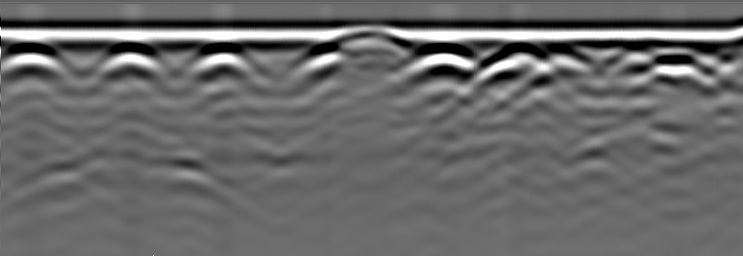pipe: (328, 27, 417, 56)
steel: (407, 48, 476, 81), (645, 45, 708, 78), (95, 46, 165, 75), (189, 47, 256, 77), (489, 44, 551, 75), (1, 49, 61, 76)
